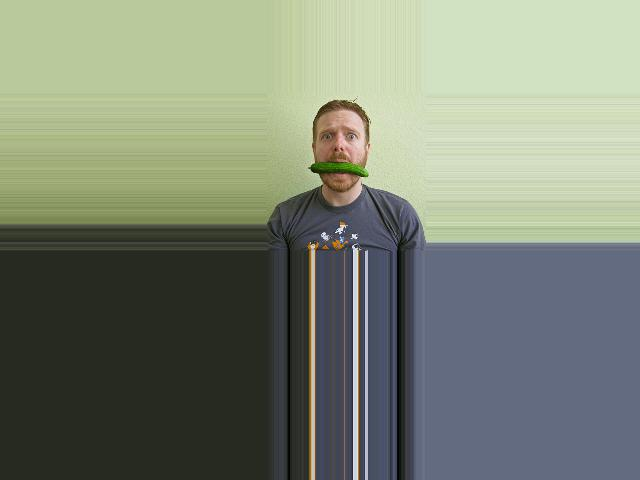cucumber: (308, 162, 369, 177)
